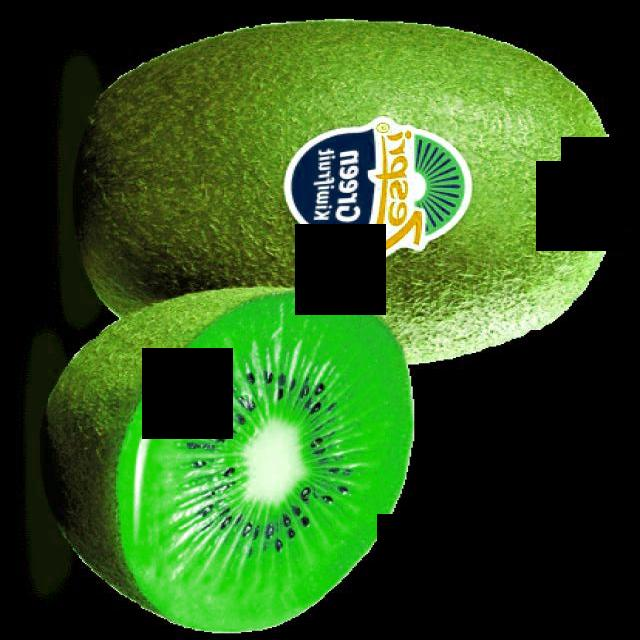kiwi: (74, 16, 637, 385)
